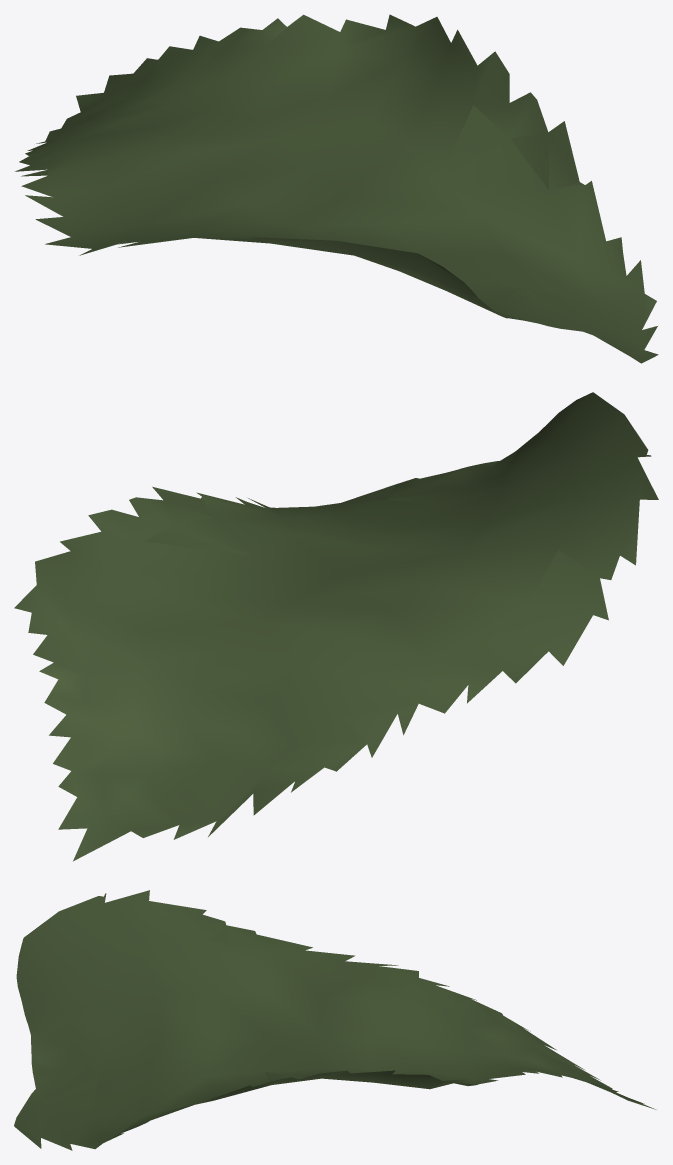
File: trees-leaves-elm-leaf_v11.glb
3 views of the same model, one above another, from view 1: azimuth 30°, elevation 25°; view 2: azimuth 150°, elevation 25°; view 3: azimuth 270°, elevation 25° (orthographic). The views are drawn at different scales.
Visible parts, largest first — view 1: Elm Leaf_v11; view 2: Elm Leaf_v11; view 3: Elm Leaf_v11.
Part boxes in pixels (<box>): Elm Leaf_v11: <box>15,14,658,363</box>; Elm Leaf_v11: <box>14,392,658,861</box>; Elm Leaf_v11: <box>14,890,656,1150</box>.
Size of the model in its own units: 0.0619 by 0.0246 by 0.1.
